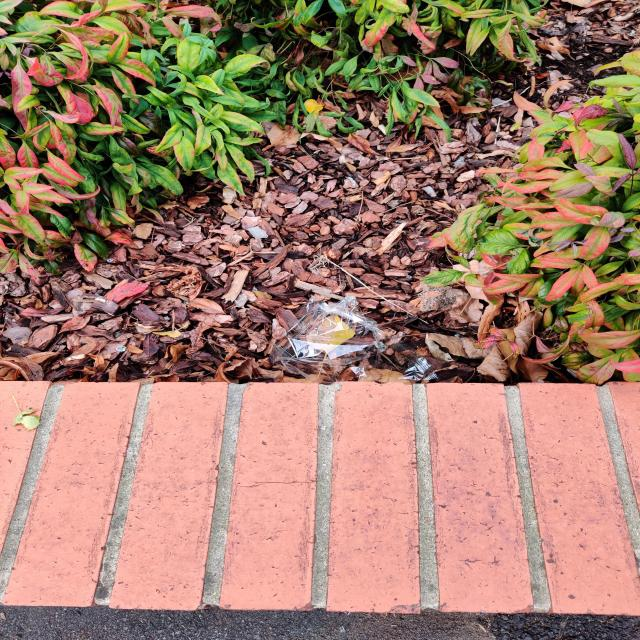litter: (269, 295, 441, 384)
